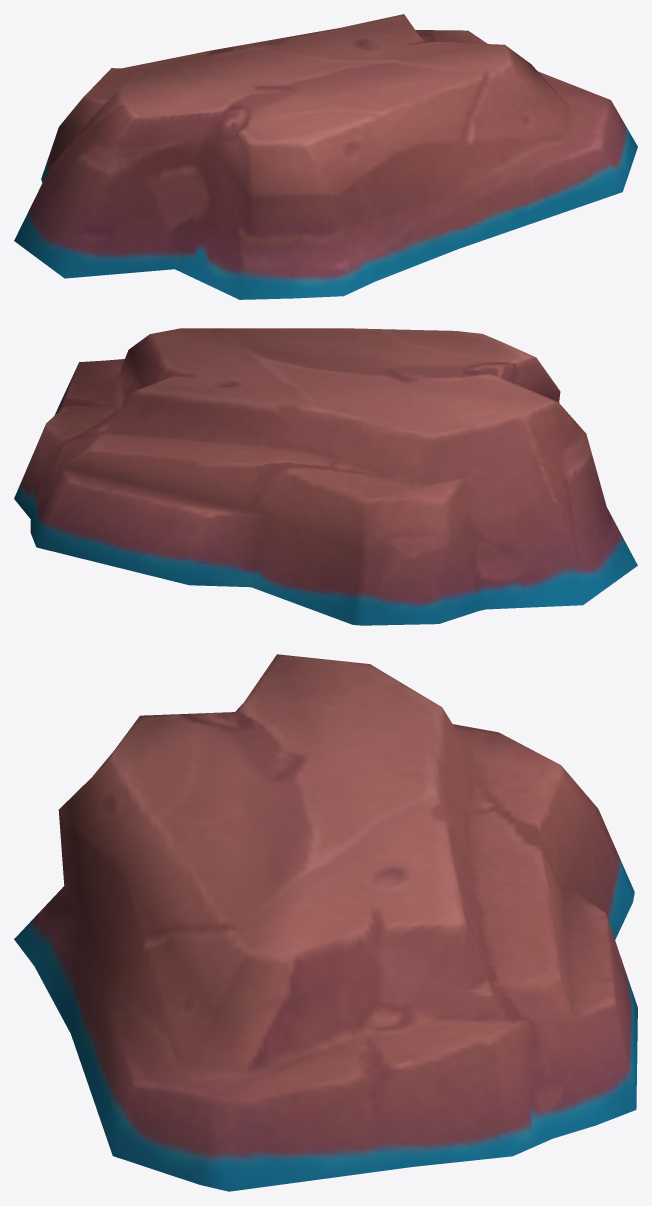
Rendered from nameikexing_shitou07.FBX.
The picture shows the model from 3 angles, top to bottom: view 1: azimuth 30°, elevation 25°; view 2: azimuth 150°, elevation 25°; view 3: azimuth 270°, elevation 25°; orthographic projection. The views are drawn at different scales.
Visible parts, largest first — view 1: nameikexing_shitou07; view 2: nameikexing_shitou07; view 3: nameikexing_shitou07.
Boxes of the visible parts, <box> form: nameikexing_shitou07: <box>14,14,637,299</box>; nameikexing_shitou07: <box>14,328,637,625</box>; nameikexing_shitou07: <box>14,654,637,1191</box>.
Bounding box in the file's own units: 1067 × 255 × 713.
